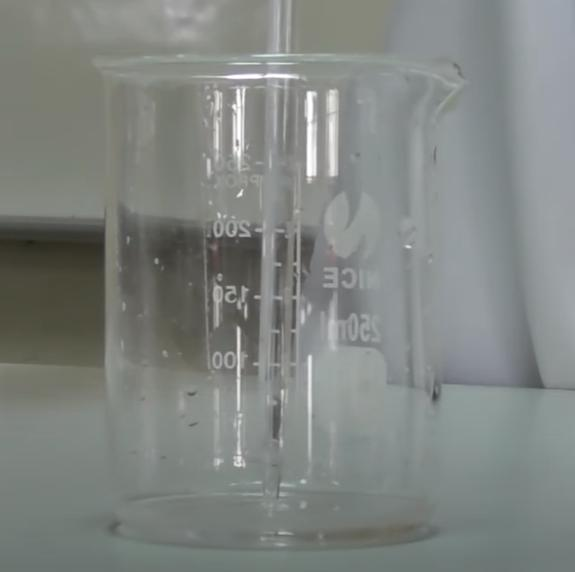Beaker: (77, 49, 462, 550)
